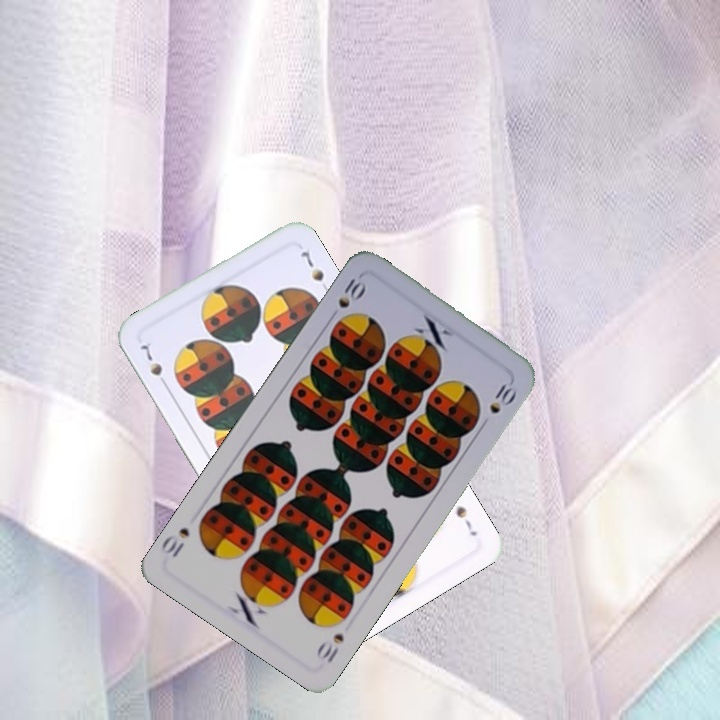S10: (334, 272, 369, 311), (312, 629, 347, 666)
S7: (136, 340, 171, 391), (452, 501, 480, 539)
